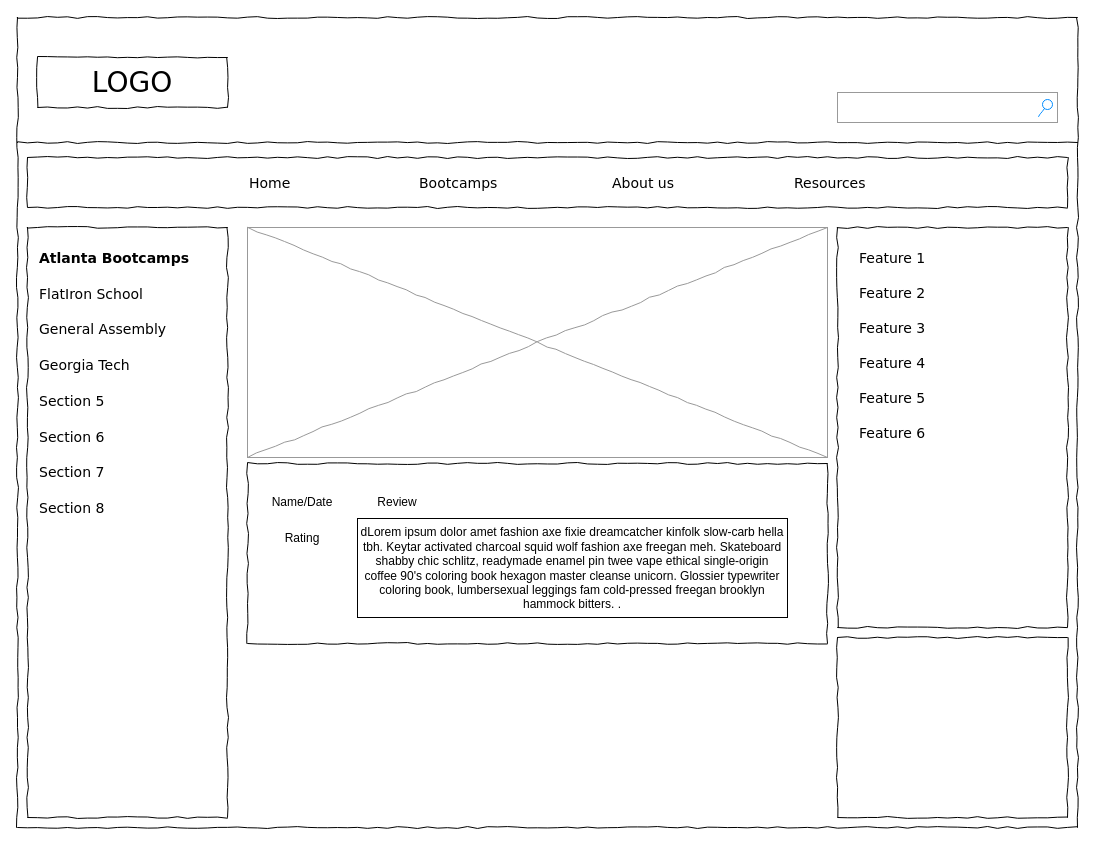
Image size: 1095x845. Some labels were removed from this diagram. The box of each missing label's shape, as (x1, y1, x2, y2) in pixels:
External Links: (836, 636, 1068, 818)
Search: (836, 92, 1058, 122)
